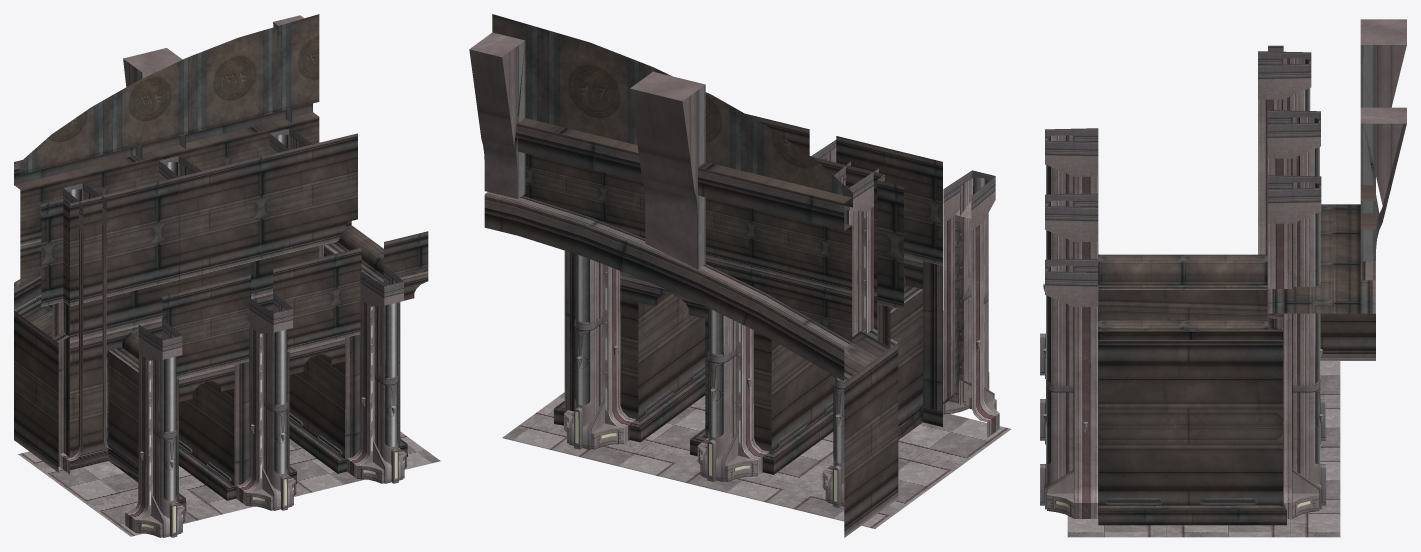
Rendered from Cor1_bldg_Grand_hall_entrence_1.fbx.
3 views of the same model, side by side, from view 1: azimuth 30°, elevation 25°; view 2: azimuth 150°, elevation 25°; view 3: azimuth 270°, elevation 25° (orthographic). The views are drawn at different scales.
Parts seen in each view (by area): view 1: entrence_1, polymsh_detached31, polymsh1326, entrence_piller16, entrence_piller14, entrence_piller15, polymsh_detached131, entrence_piller11, polymsh1383, polymsh_detached52, entrence_piller10, entrence_piller6 (+1 smaller); view 2: polymsh1326, entrence_1, polymsh_detached52, polymsh_detached31, polymsh_detached131, entrence_piller16, entrence_piller6, entrence_piller10, entrence_piller11, polymsh1383, polymsh_detached119; view 3: entrence_1, entrence_piller14, entrence_piller6, polymsh1326, polymsh_detached52, polymsh_detached131, entrence_piller11, polymsh1383, entrence_piller10, entrence_piller15, entrence_piller16, polymsh_detached119.
Part boxes in pixels (x1=…): entrence_1: x1=41, y1=133, x2=428, y2=502; polymsh_detached31: x1=19, y1=14, x2=319, y2=174; polymsh1326: x1=14, y1=103, x2=319, y2=472; entrence_piller16: x1=125, y1=319, x2=185, y2=537; entrence_piller14: x1=347, y1=265, x2=406, y2=483; entrence_piller15: x1=236, y1=292, x2=296, y2=510; polymsh_detached131: x1=18, y1=431, x2=440, y2=536; entrence_piller11: x1=60, y1=183, x2=111, y2=474; polymsh1383: x1=70, y1=419, x2=407, y2=510; polymsh_detached52: x1=123, y1=15, x2=303, y2=159; entrence_piller10: x1=159, y1=155, x2=202, y2=291; entrence_piller6: x1=269, y1=128, x2=312, y2=247; polymsh1326: x1=484, y1=116, x2=898, y2=537; entrence_1: x1=564, y1=113, x2=942, y2=452; polymsh_detached52: x1=469, y1=32, x2=705, y2=269; polymsh_detached31: x1=492, y1=14, x2=852, y2=207; polymsh_detached131: x1=502, y1=392, x2=1010, y2=528; entrence_piller16: x1=943, y1=170, x2=999, y2=437; entrence_piller6: x1=564, y1=254, x2=635, y2=449; entrence_piller10: x1=697, y1=308, x2=769, y2=481; entrence_piller11: x1=822, y1=161, x2=878, y2=506; polymsh1383: x1=554, y1=372, x2=923, y2=474; polymsh_detached119: x1=644, y1=364, x2=919, y2=446; entrence_1: x1=1098, y1=45, x2=1283, y2=507; entrence_piller14: x1=1045, y1=258, x2=1098, y2=518; entrence_piller6: x1=1268, y1=175, x2=1321, y2=518; polymsh1326: x1=1268, y1=124, x2=1375, y2=360; polymsh_detached52: x1=1360, y1=19, x2=1406, y2=261; polymsh_detached131: x1=1067, y1=361, x2=1340, y2=537; entrence_piller11: x1=1258, y1=51, x2=1311, y2=254; polymsh1383: x1=1098, y1=503, x2=1286, y2=525; entrence_piller10: x1=1267, y1=110, x2=1320, y2=444; entrence_piller15: x1=1045, y1=193, x2=1098, y2=444; entrence_piller16: x1=1045, y1=128, x2=1098, y2=378; polymsh_detached119: x1=1105, y1=498, x2=1256, y2=504.
Size of what is drawn, in the model's own units: 2800 by 3095 by 2378.
